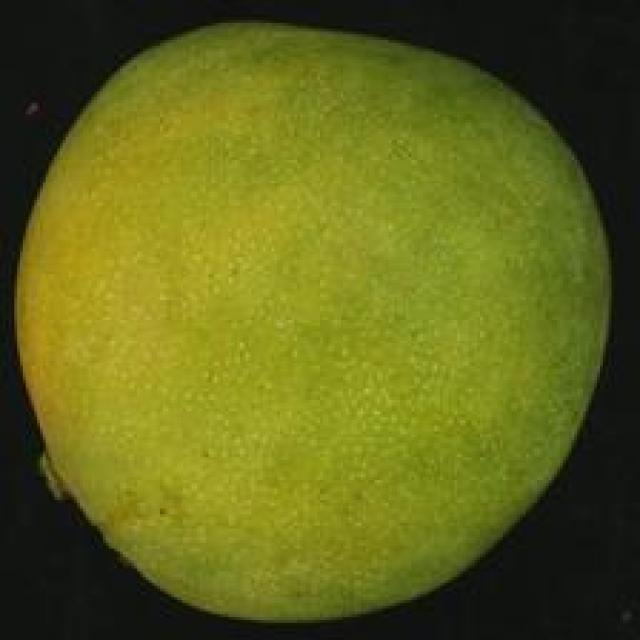Good_Mango: (11, 20, 611, 629)
